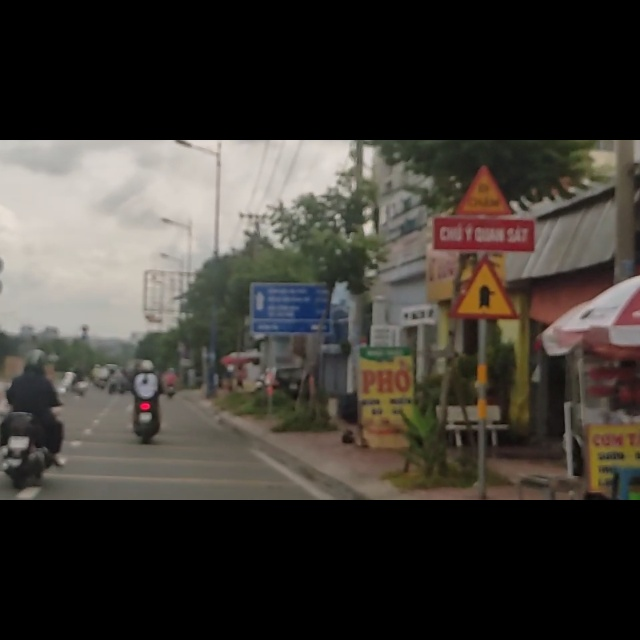bien_hieu_lenh: (447, 206, 521, 320)
